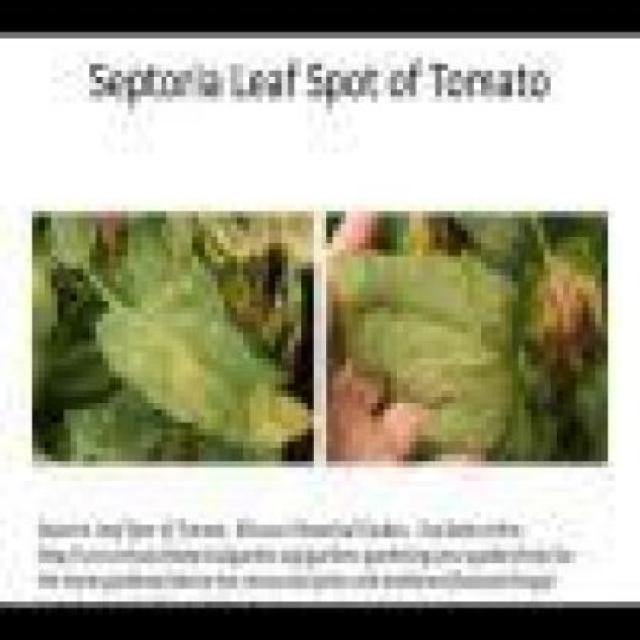Septoria leaf spot: (90, 244, 315, 449), (327, 244, 526, 449)
